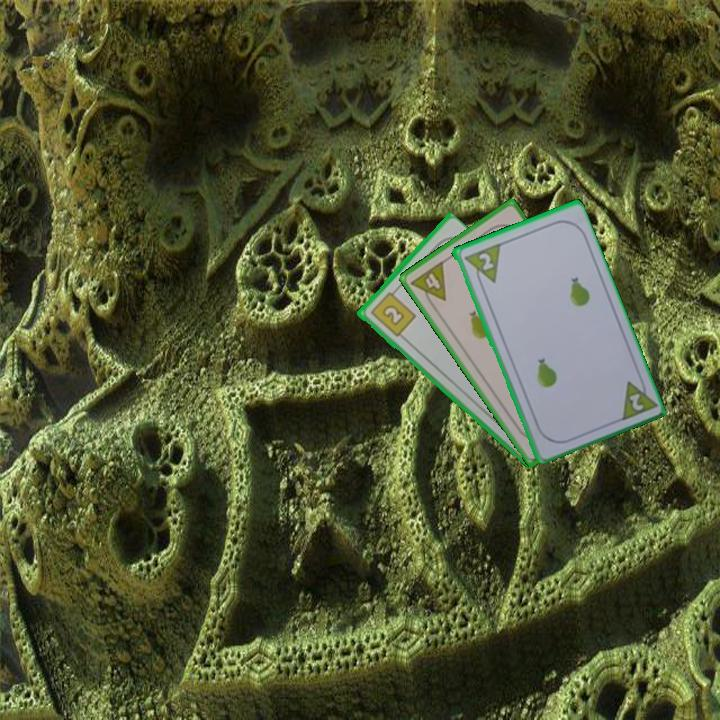2b: (366, 285, 418, 339)
2p: (474, 249, 496, 273), (625, 389, 646, 414)
4p: (407, 257, 449, 311)
